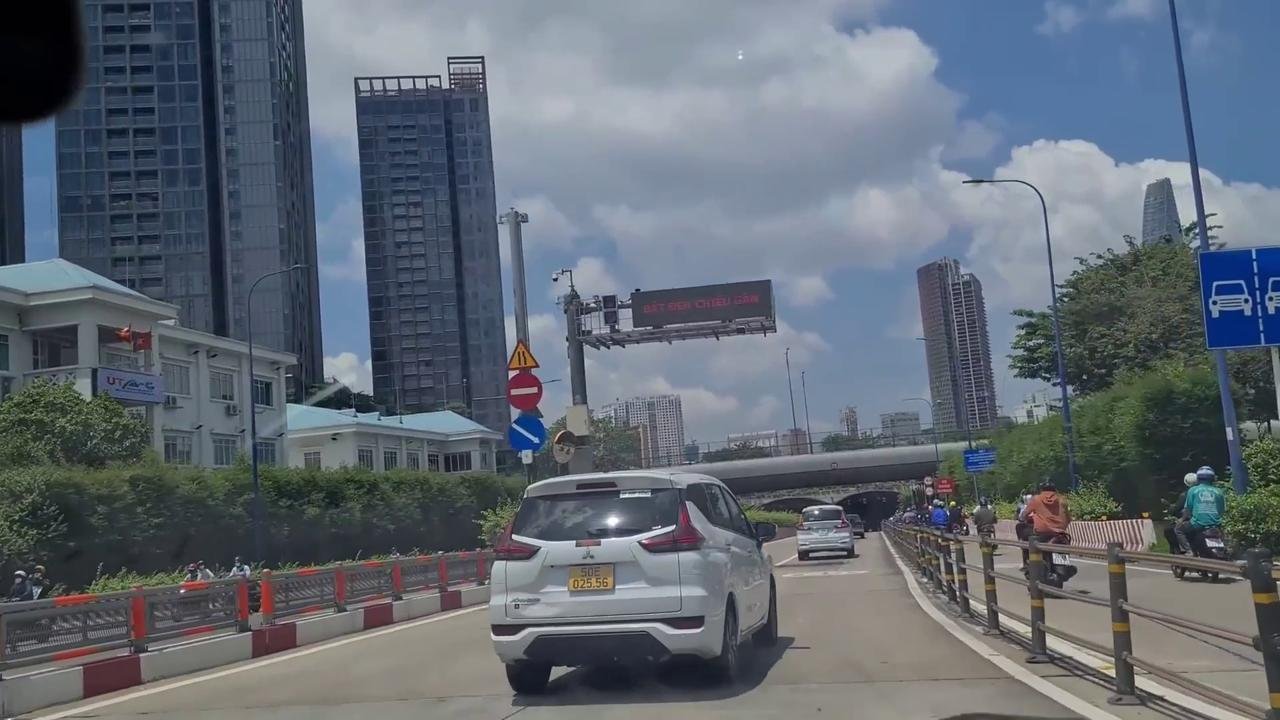Cấm đi ngược chiều: (503, 371, 543, 413)
Hướng phải đi vòng sang phải: (508, 414, 548, 454)
Đuờng hẹp: (504, 339, 540, 370)
